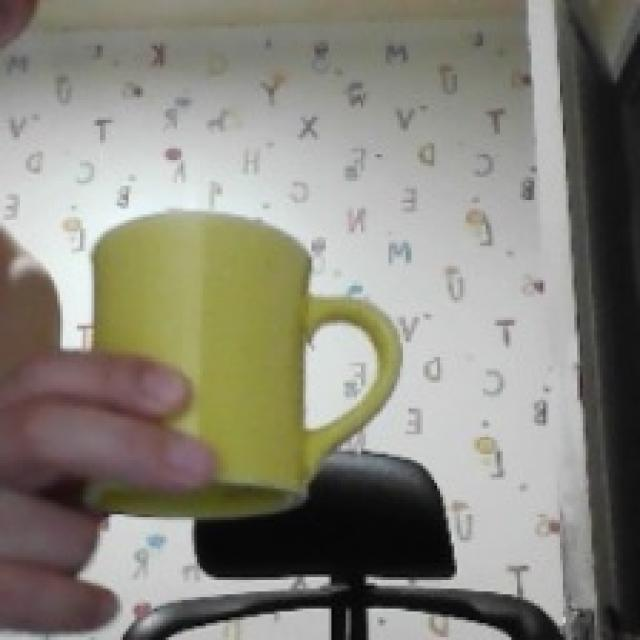cup: (91, 211, 400, 511)
